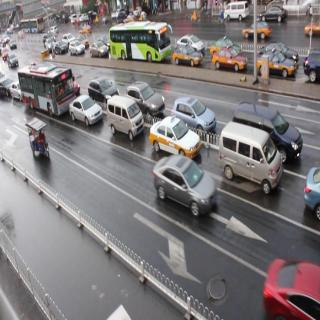BigCar: (19, 58, 77, 120), (110, 22, 170, 72)
Car: (148, 151, 215, 225), (229, 94, 301, 157), (220, 122, 280, 196), (149, 116, 198, 166), (174, 94, 222, 143), (105, 85, 143, 138), (208, 45, 251, 80)
